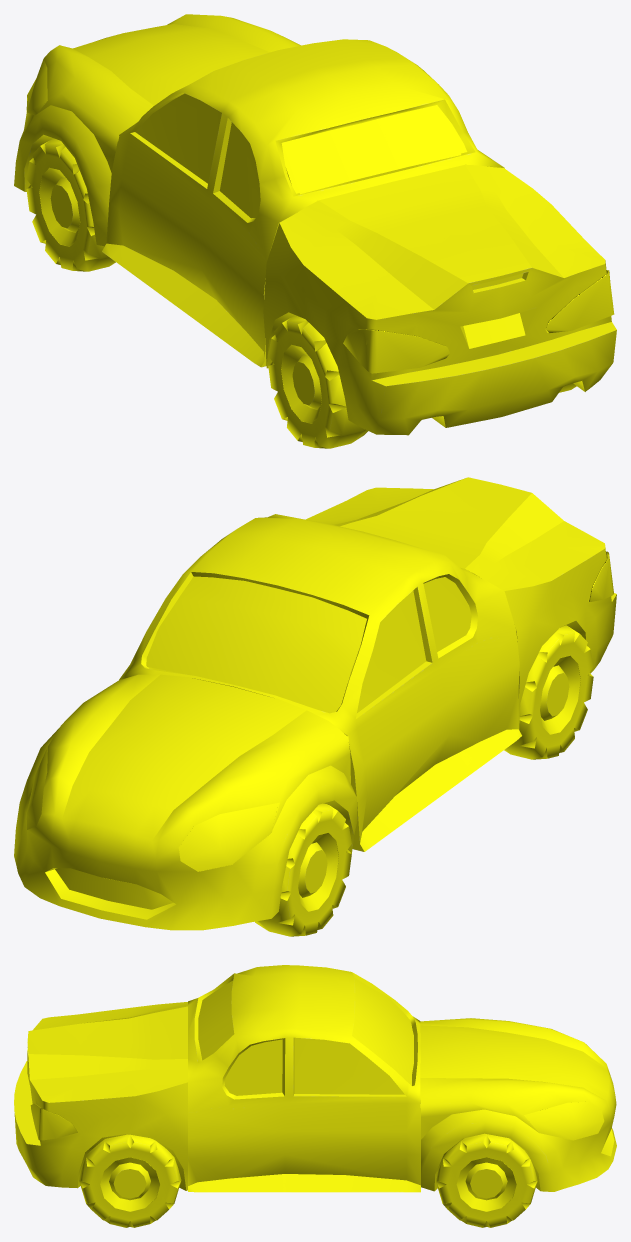
The model's file is simplecar.glb.
3 views of the same model, one above another, from view 1: azimuth 30°, elevation 25°; view 2: azimuth 150°, elevation 25°; view 3: azimuth 270°, elevation 25° (orthographic). The views are drawn at different scales.
Parts seen in each view (by area): view 1: node_id399, node_id419, node_id405, node_id415, node_id427, node_id431, node_id417, node_id403, node_id425, node_id429, node_id401, node_id407; view 2: node_id405, node_id419, node_id399, node_id415, node_id427, node_id431, node_id407, node_id417, node_id429, node_id425, node_id409, node_id403; view 3: node_id419, node_id405, node_id399, node_id415, node_id423, node_id413, node_id417, node_id421, node_id411, node_id409, node_id401.
Boxes of the visible parts, x1,y1,x2,y2 form: node_id399: (263, 164, 616, 435); node_id419: (102, 39, 504, 367); node_id405: (14, 14, 300, 246); node_id415: (281, 105, 467, 193); node_id427: (268, 316, 367, 448); node_id431: (26, 138, 115, 271); node_id417: (135, 93, 221, 183); node_id403: (343, 329, 449, 373); node_id425: (281, 344, 321, 423); node_id429: (39, 167, 80, 246); node_id401: (545, 270, 614, 333); node_id407: (26, 59, 47, 115); node_id405: (14, 674, 357, 930); node_id419: (119, 514, 521, 851); node_id399: (306, 477, 616, 729); node_id415: (146, 576, 366, 712); node_id427: (504, 625, 593, 759); node_id431: (255, 803, 351, 936); node_id407: (178, 802, 279, 871); node_id417: (357, 591, 426, 712); node_id429: (298, 832, 338, 911); node_id425: (540, 655, 580, 734); node_id409: (26, 746, 47, 829); node_id403: (588, 551, 613, 601); node_id419: (188, 965, 420, 1192); node_id405: (420, 1018, 616, 1191); node_id399: (14, 1002, 187, 1190); node_id415: (198, 978, 413, 1083); node_id423: (79, 1134, 181, 1227); node_id413: (436, 1133, 537, 1227); node_id417: (294, 1037, 404, 1094); node_id421: (100, 1157, 160, 1211); node_id411: (456, 1157, 516, 1211); node_id409: (524, 1101, 604, 1140); node_id401: (30, 1103, 77, 1140).
Size of the model in its own units: 0.3628 by 0.3438 by 0.9673.
Materials: 17 (17 with a texture image).
